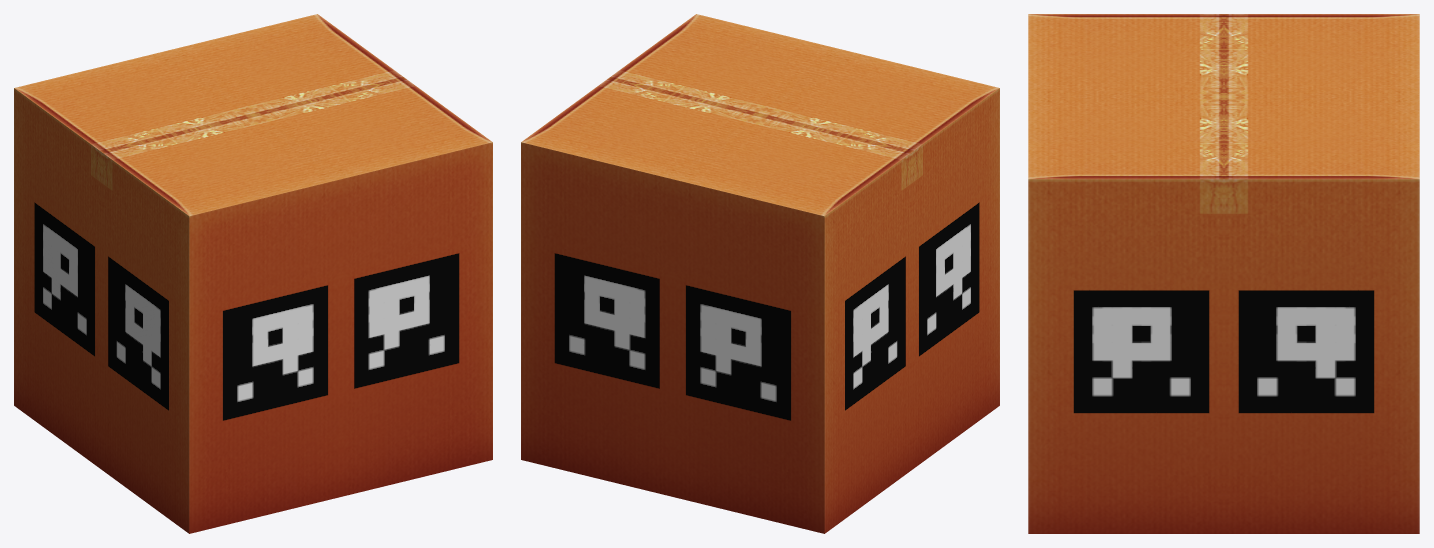
The model's file is cardboard_box_red_3.dae.
3 renders of one model, left to right at view 1: azimuth 30°, elevation 25°; view 2: azimuth 150°, elevation 25°; view 3: azimuth 270°, elevation 25°, orthographic. The views are drawn at different scales.
Visible parts, largest first — view 1: Conveyor_Box; view 2: Conveyor_Box; view 3: Conveyor_Box.
Boxes of the visible parts, bbox=[...] form: Conveyor_Box: bbox=[14, 14, 492, 533]; Conveyor_Box: bbox=[521, 14, 999, 533]; Conveyor_Box: bbox=[1028, 14, 1419, 533].
Size of the model in its own units: 397 by 397 by 397.
